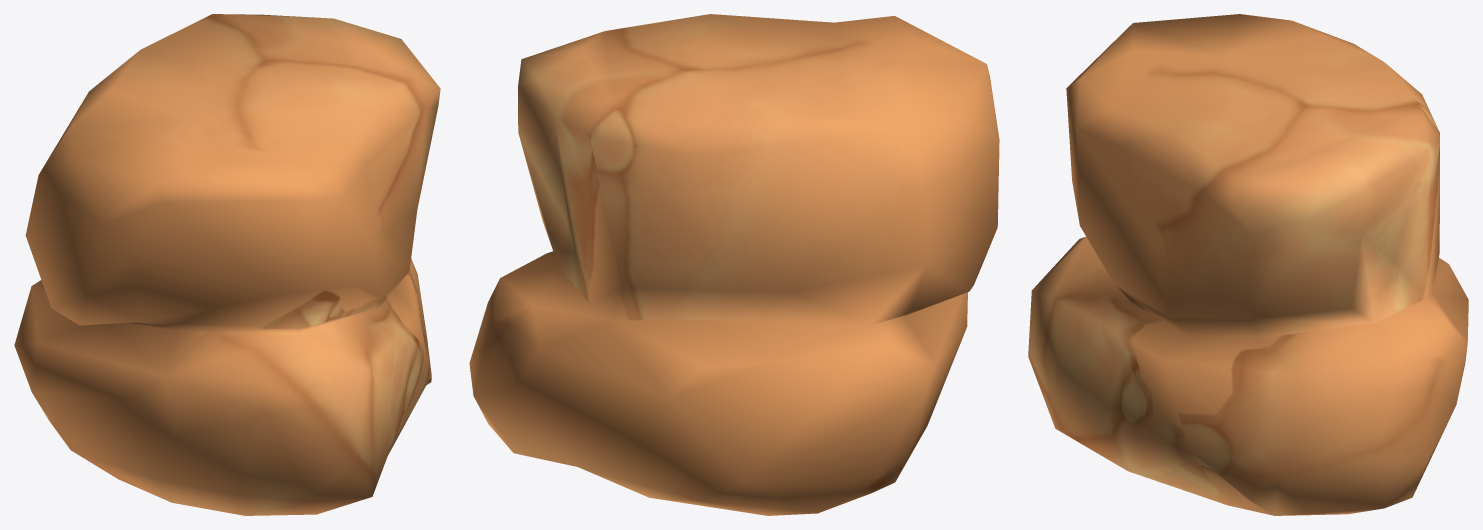
The model's file is Subrock_6.fbx.
The picture shows the model from 3 angles, left to right: view 1: azimuth 30°, elevation 25°; view 2: azimuth 150°, elevation 25°; view 3: azimuth 270°, elevation 25°; orthographic projection. The views are drawn at different scales.
Visible parts, largest first — view 1: Rock_6_LOD0; view 2: Rock_6_LOD0; view 3: Rock_6_LOD0.
Boxes of the visible parts, x1,y1,x2,y2 form: Rock_6_LOD0: (14,14,440,515); Rock_6_LOD0: (469,14,999,515); Rock_6_LOD0: (1028,14,1468,515).
Size of what is drawn, in the model's own units: 75.69 by 66.69 by 72.84.
